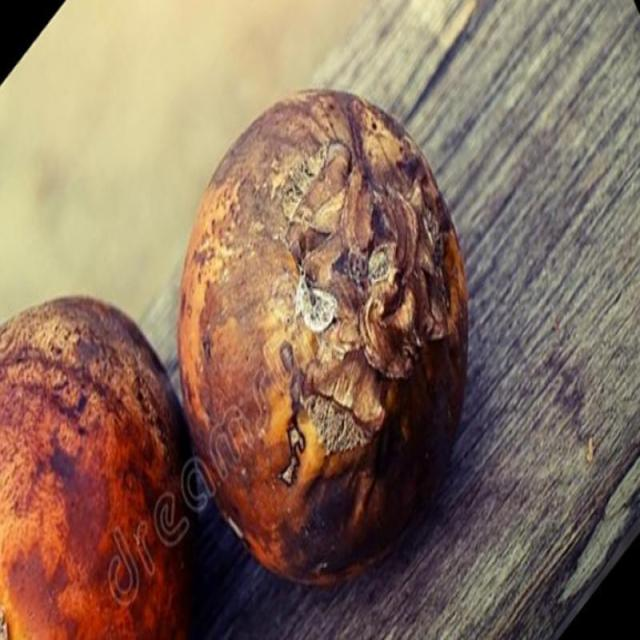damaged: (175, 90, 469, 593), (0, 297, 199, 639)
